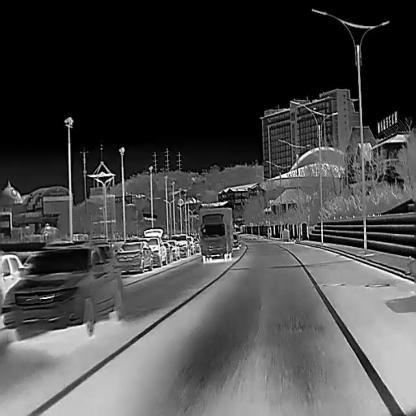car: (2, 240, 122, 341), (0, 252, 23, 312), (114, 239, 153, 271), (144, 236, 166, 264), (170, 233, 191, 258), (166, 237, 179, 260), (162, 239, 173, 263), (232, 233, 239, 250)
truck: (198, 204, 233, 262)
